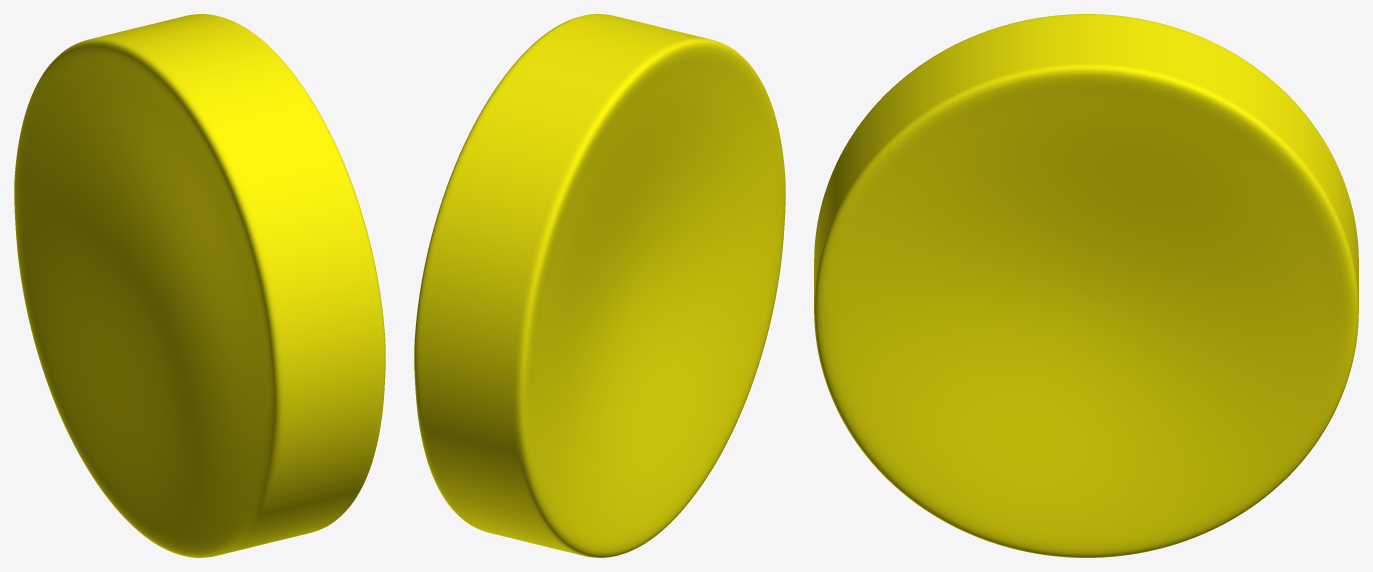
File: coin.FBX
The picture shows the model from 3 angles, left to right: view 1: azimuth 30°, elevation 25°; view 2: azimuth 150°, elevation 25°; view 3: azimuth 270°, elevation 25°; orthographic projection. The views are drawn at different scales.
Visible parts, largest first — view 1: Cylinder001; view 2: Cylinder001; view 3: Cylinder001.
Part boxes in pixels (x1,y1,x2,y2): Cylinder001: (14,14,385,557); Cylinder001: (414,14,785,557); Cylinder001: (814,14,1358,557).
Bounding box in the file's own units: 19.33 × 79.8 × 79.8.
